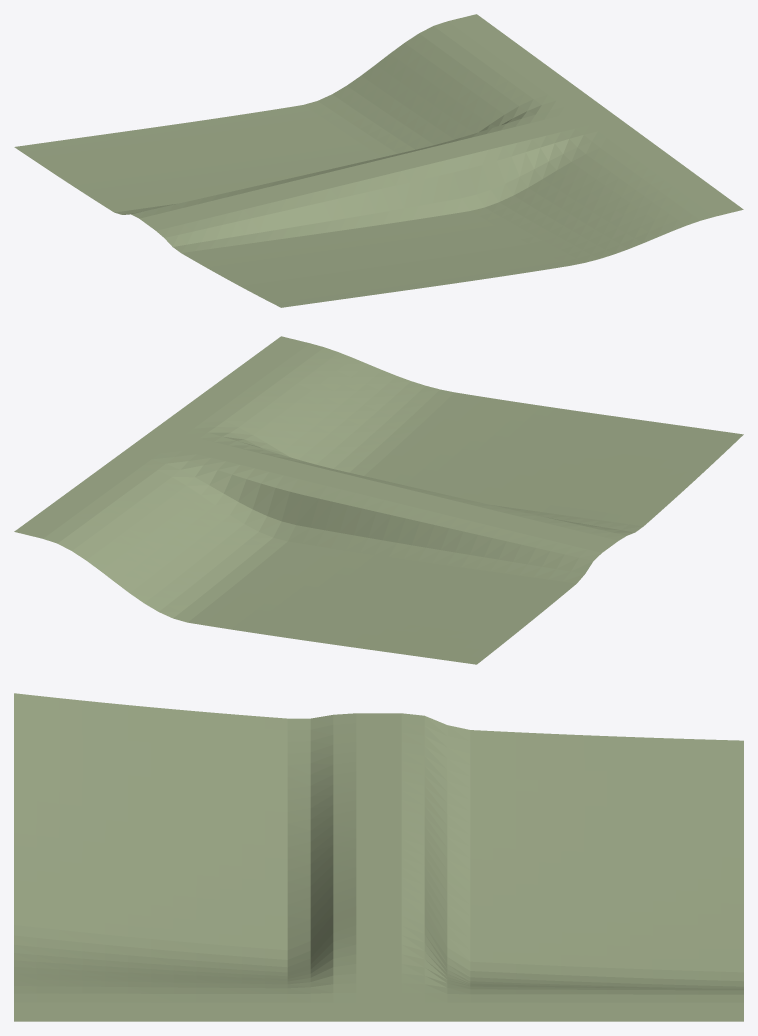
File: valley-12-12.glb
3 views of the same model, one above another, from view 1: azimuth 30°, elevation 25°; view 2: azimuth 150°, elevation 25°; view 3: azimuth 270°, elevation 25° (orthographic). The views are drawn at different scales.
Visible parts, largest first — view 1: valley-12-12; view 2: valley-12-12; view 3: valley-12-12.
Boxes of the visible parts, bbox=[...] form: valley-12-12: bbox=[14, 14, 743, 307]; valley-12-12: bbox=[14, 336, 743, 664]; valley-12-12: bbox=[14, 693, 743, 1021].
Bounding box in the file's own units: 256 × 33.41 × 256.
